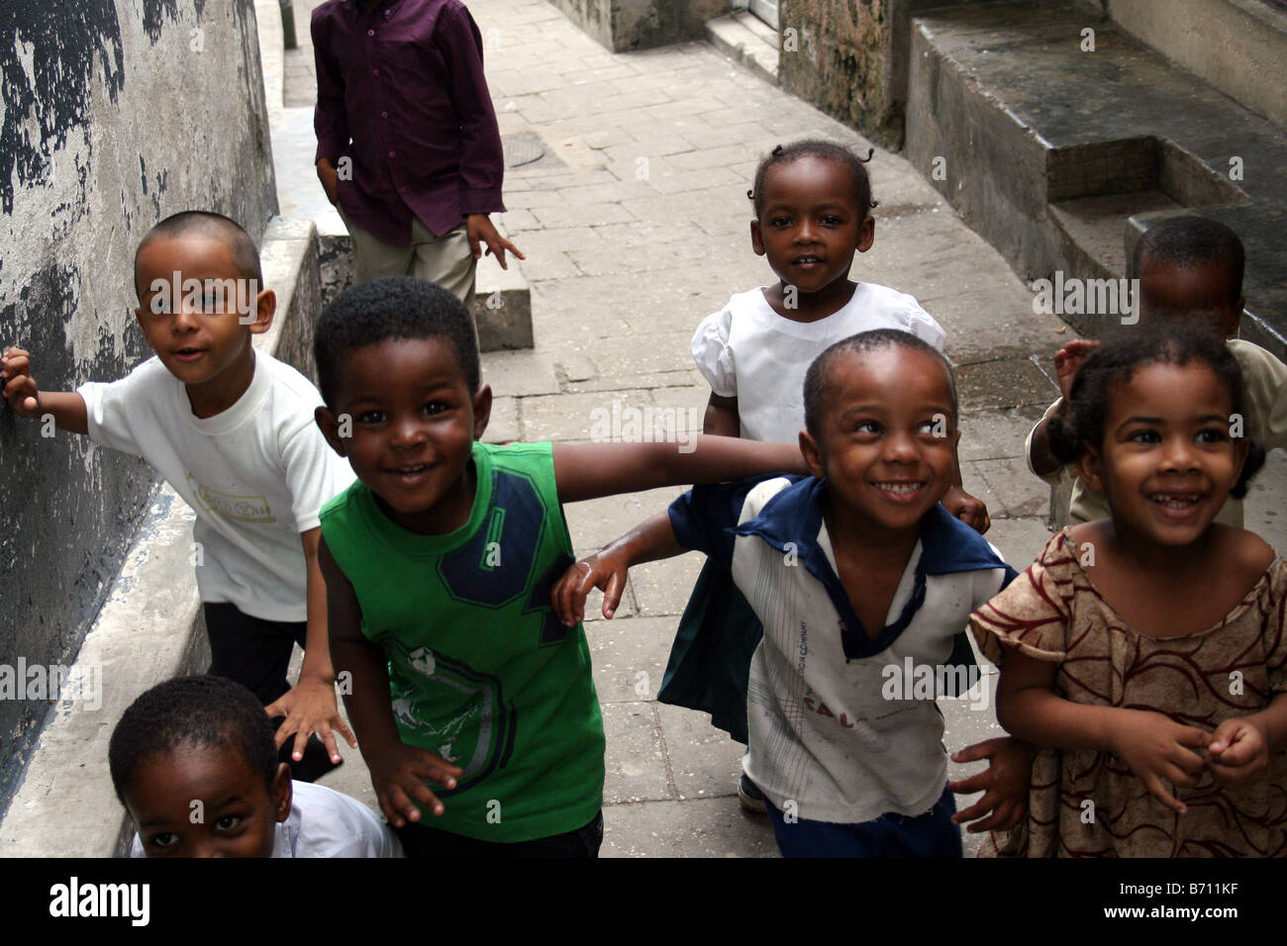Person: (275, 278, 669, 847), (724, 337, 1028, 850), (998, 337, 1287, 848)
